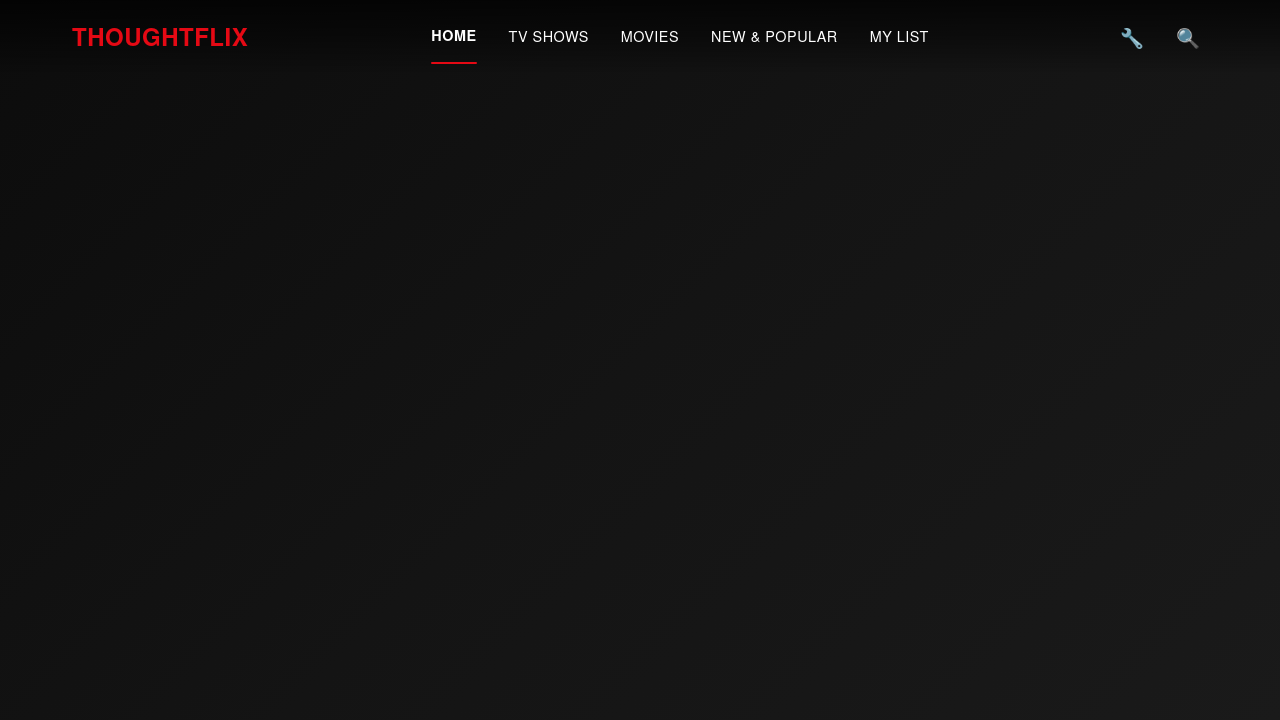
Test: Navigation Component - Optimized › Filter Functionality › GIVEN Navigation component with search active WHEN clicking filter button THEN should toggle filter panel
This screenshot has width=1280, height=720.
// Click to open
Click the button named "Filter movies".
click(1132, 36)  # box [1112,16,1152,56]
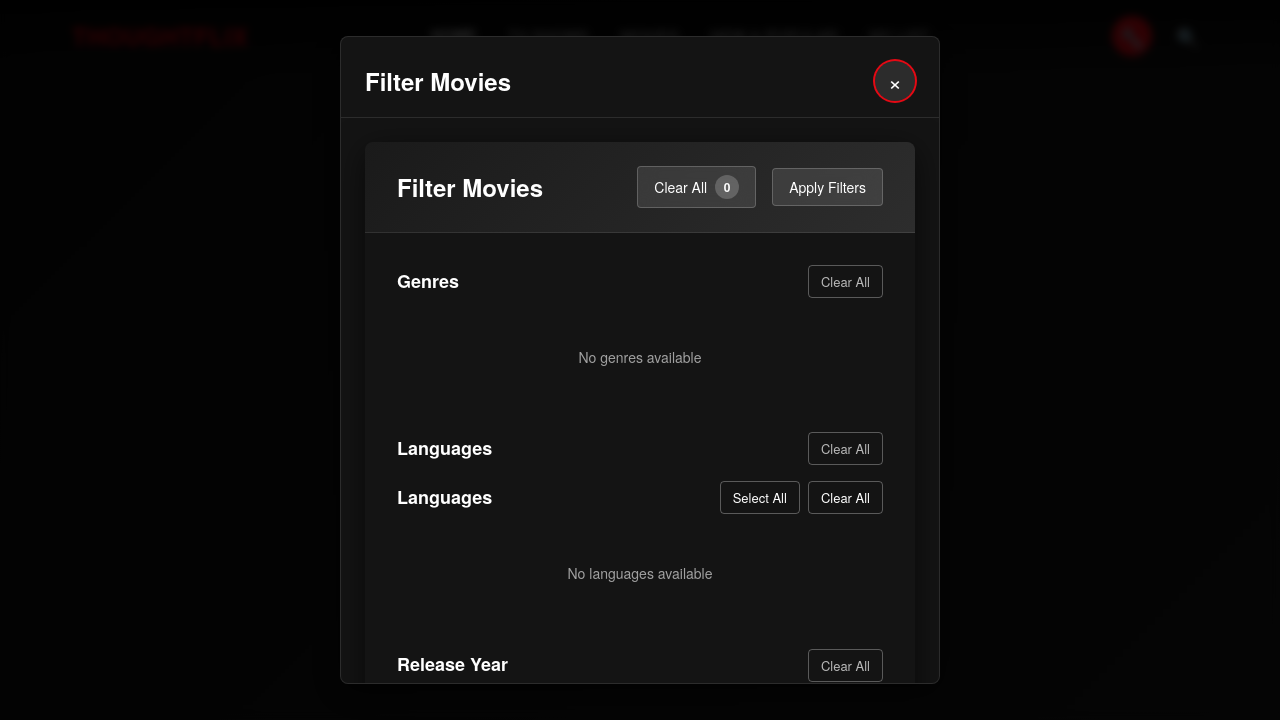
Now the button named "Filter movies" is expanded, box [1112,16,1152,56]
